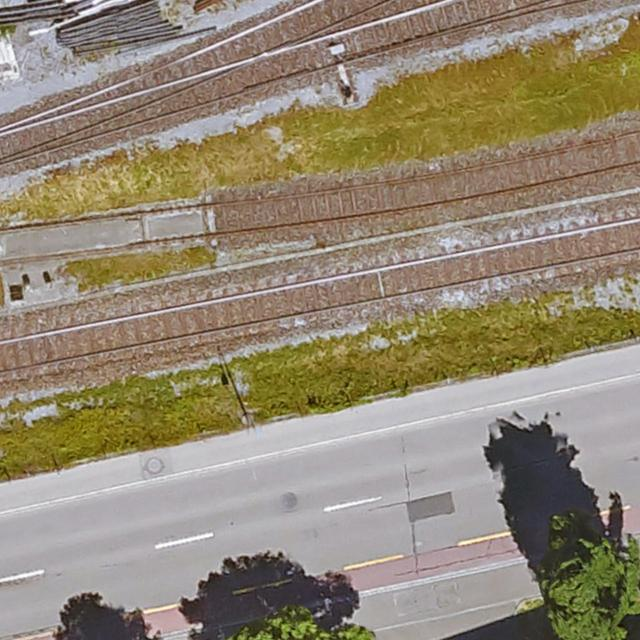tree: (542, 516, 640, 640), (231, 612, 376, 640)
